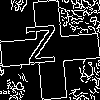Z: (25, 25, 59, 74)
